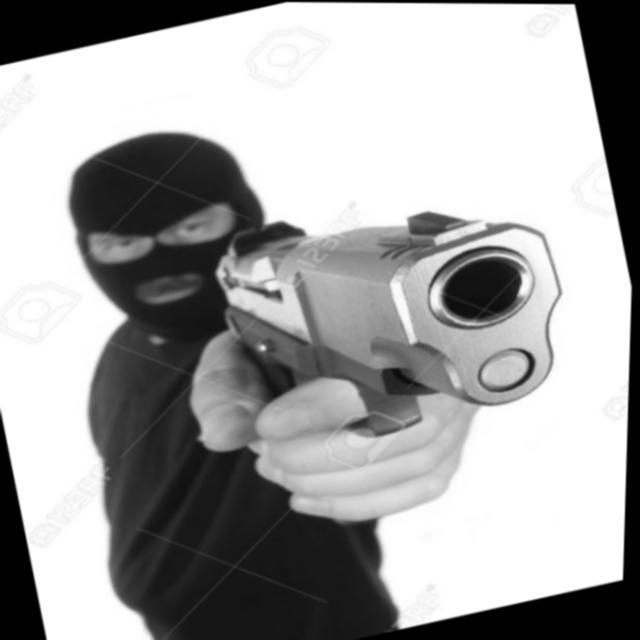weapon: (202, 160, 590, 467)
